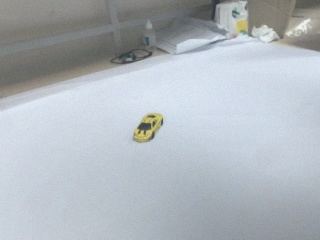toy_car: (133, 113, 164, 143)
